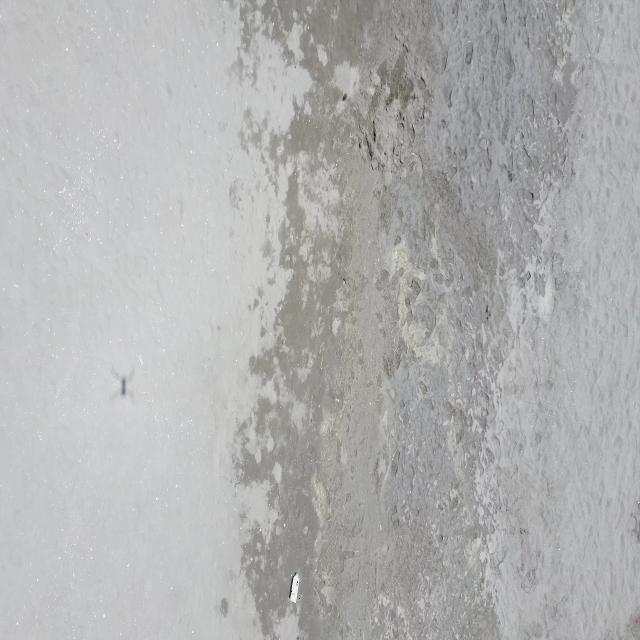plastic-bottle: (290, 572, 300, 604)
